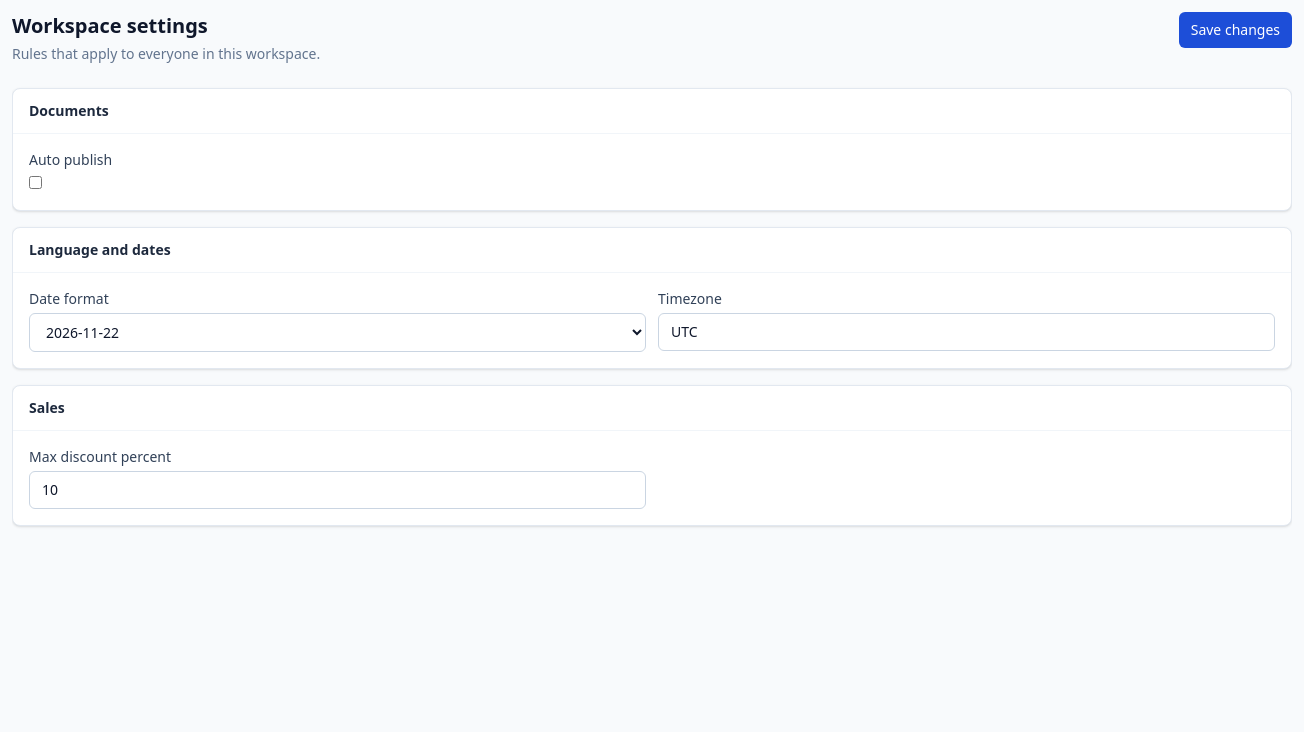
Scenario: TenantSettingsPage › saves only what changed and shows server refusals
Click the button "Save changes".
click(1235, 30)  # box [1179,12,1292,48]
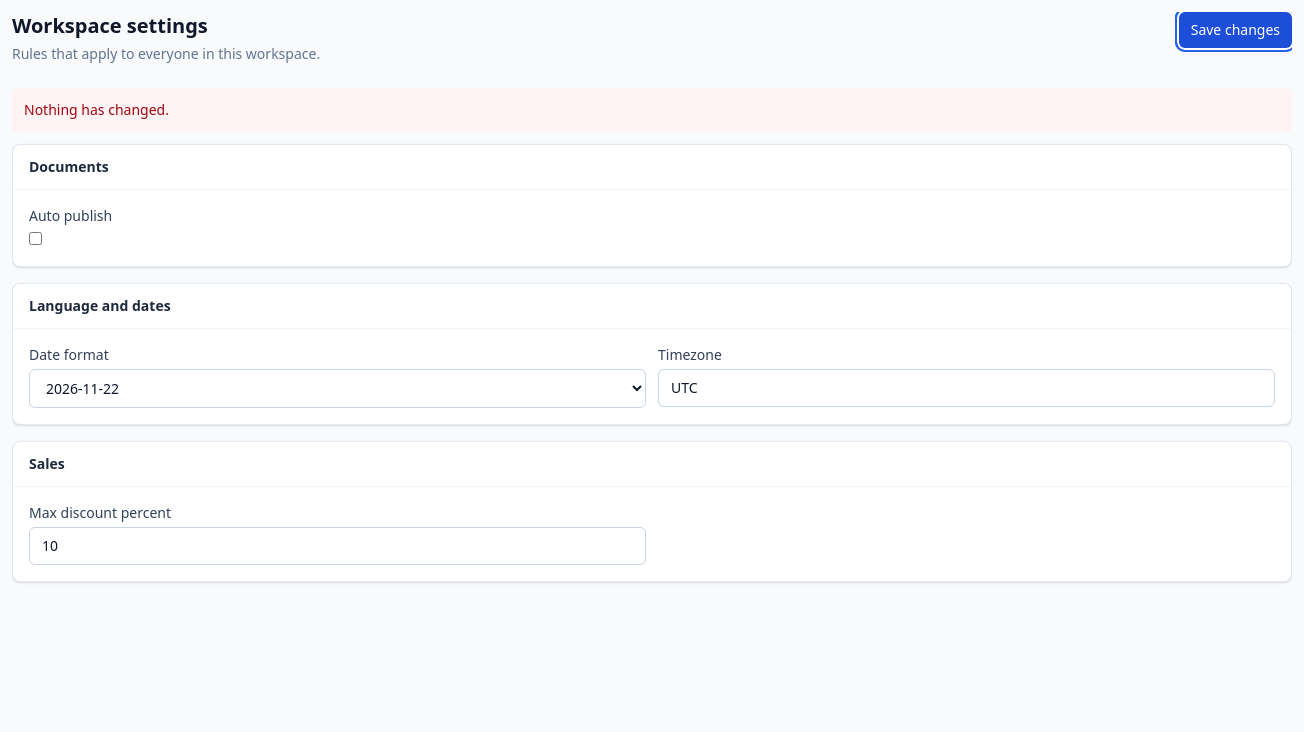
Now the text "Nothing has changed." is shown, box [12,88,1292,132]
Replace the text in the field named "Sales: Max discount percent" with "500" at [338, 546], box [29,527,646,565]
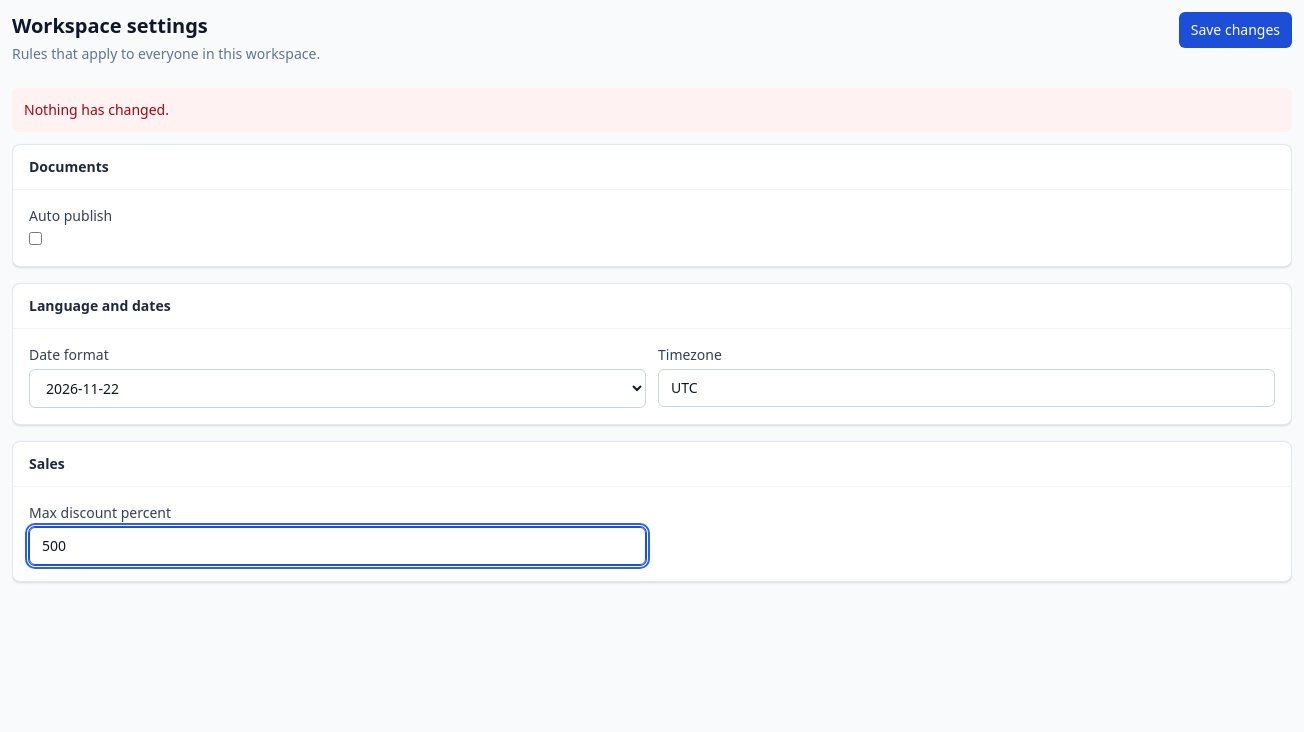
Click the button "Save changes".
click(1235, 30)  # box [1179,12,1292,48]
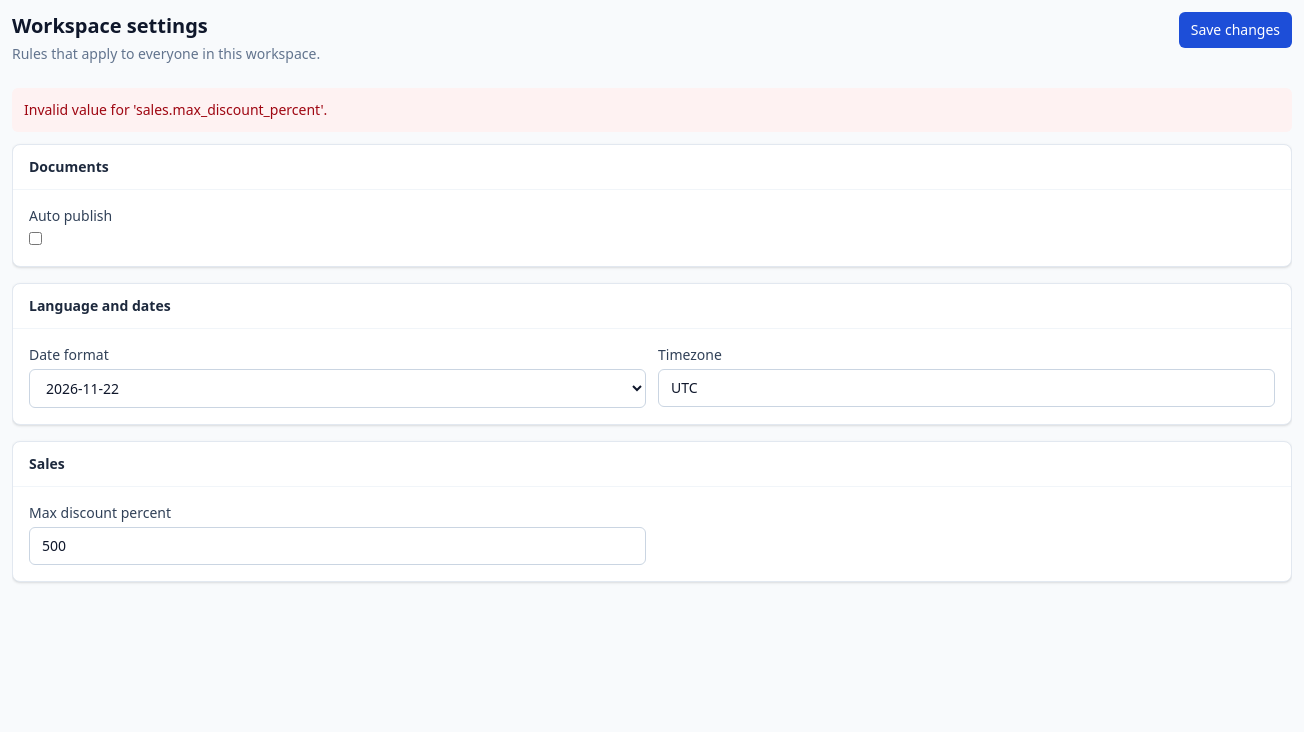
Now the text "Invalid value for 'sales.max_discount_percent'." is shown, box [12,88,1292,132]
Click the checkbox named "Documents: Auto publish".
click(36, 238)  # box [29,232,42,245]
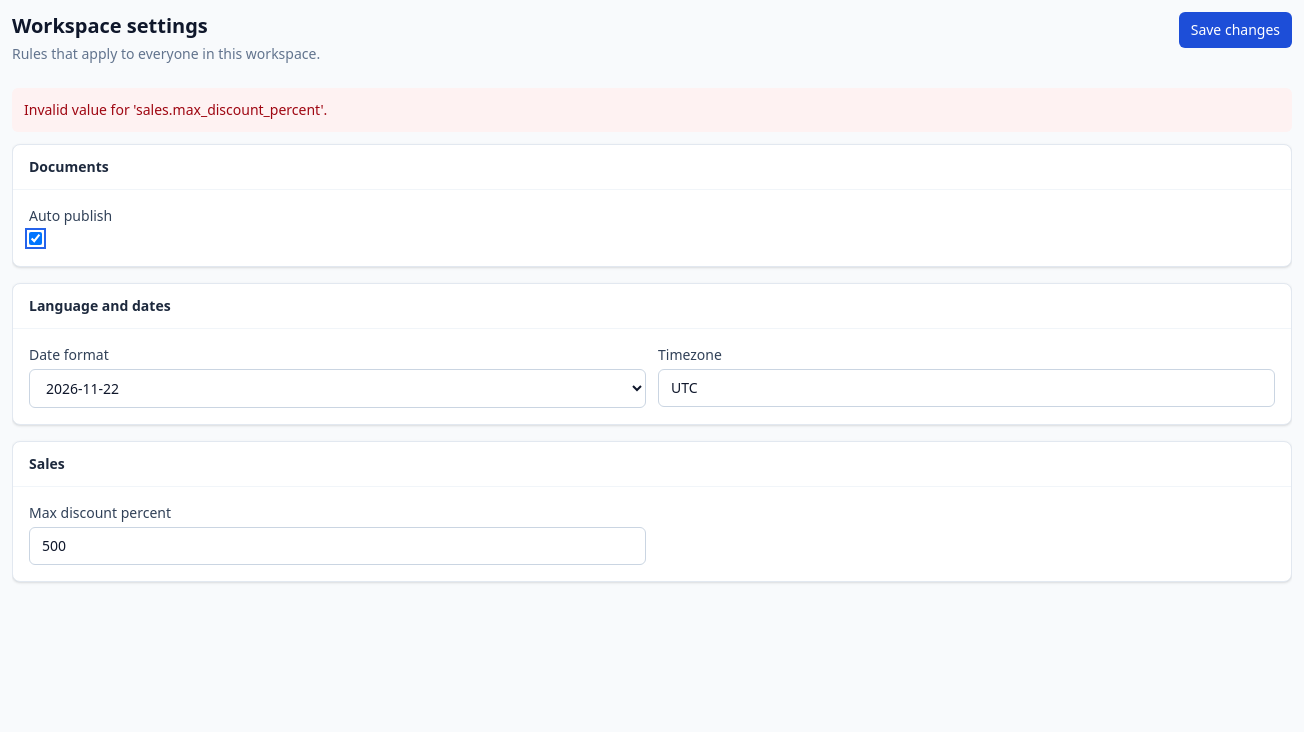
Click the button "Save changes".
click(1235, 30)  # box [1179,12,1292,48]
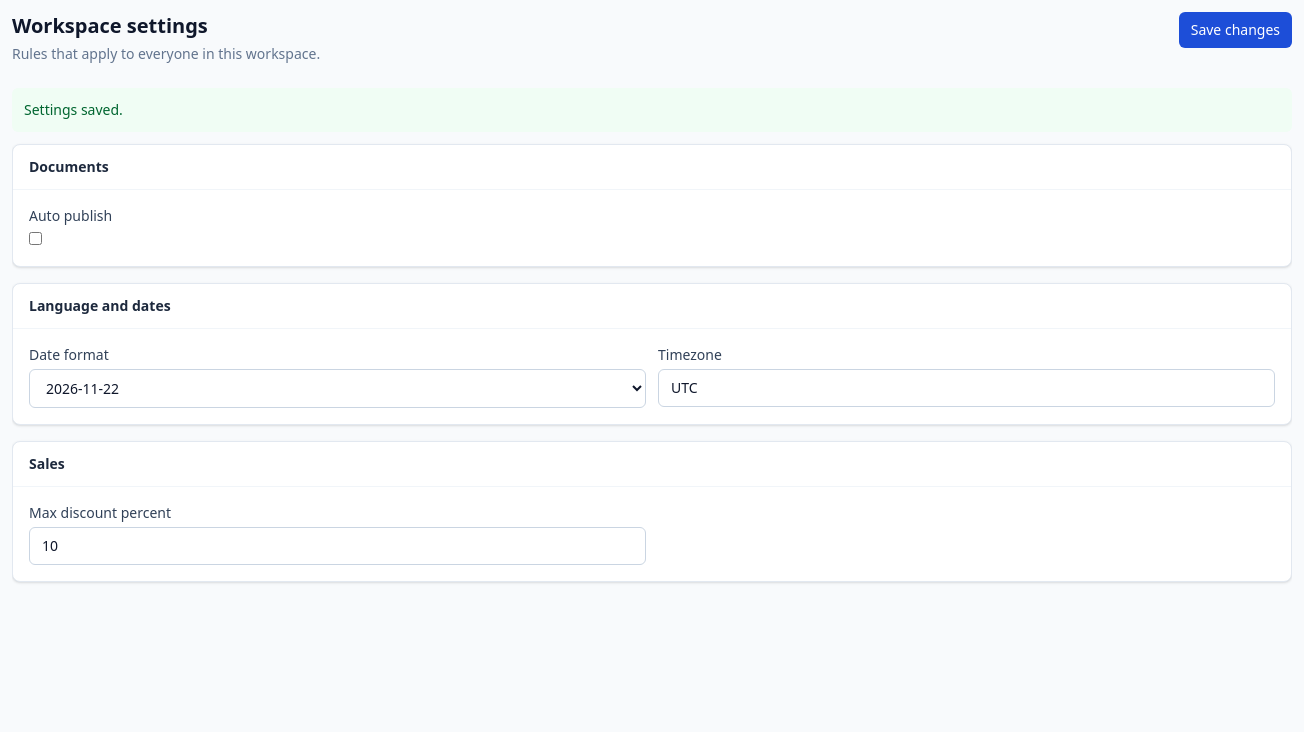
Now the text "Settings saved." is shown, box [12,88,1292,132]
